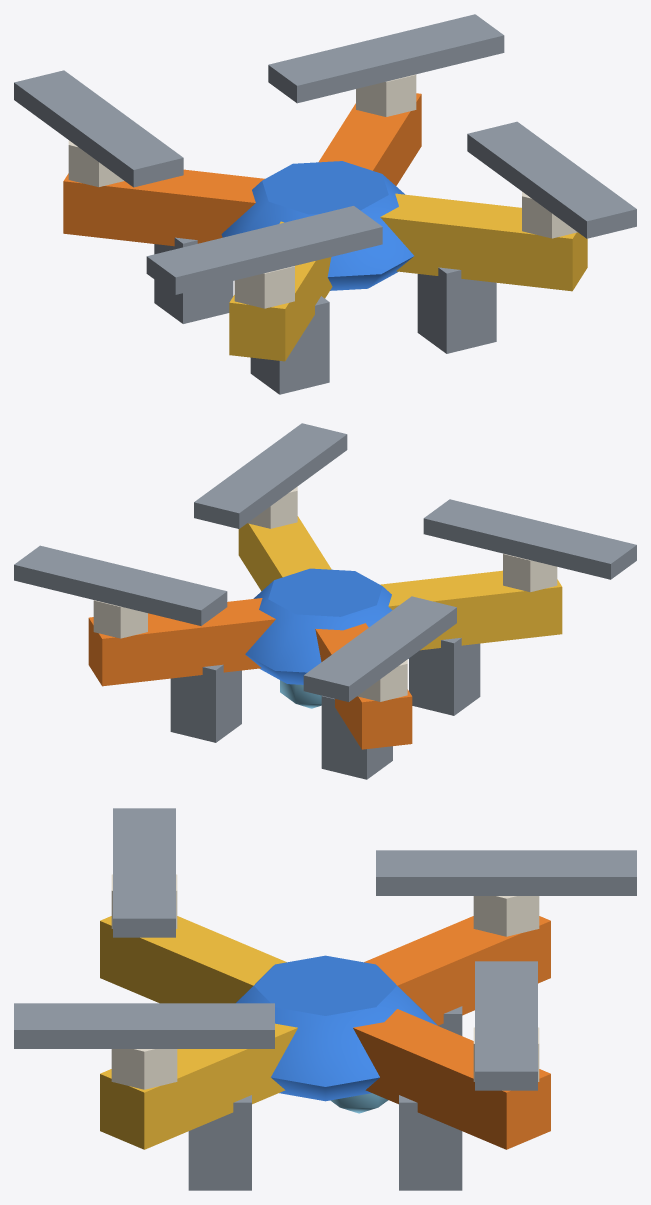
File: unit-drone.glb
3 renders of one model, top to bottom at view 1: azimuth 30°, elevation 25°; view 2: azimuth 150°, elevation 25°; view 3: azimuth 270°, elevation 25°, orthographic. The views are drawn at different scales.
Parts seen in each view (by area): view 1: frame, propeller (×4), feet; view 2: propeller (×4), frame, feet; view 3: frame, propeller (×4), feet.
Boxes of the visible parts, x1,y1,x2,y2 form: frame: (63,93,587,361); propeller (×4): (14,14,636,308); feet: (154,237,496,394); propeller (×4): (14,423,636,701); frame: (88,516,562,749); feet: (170,637,480,779); frame: (100,916,550,1149); propeller (×4): (14,808,636,1090); feet: (188,1006,462,1190).
Size of the model in its own units: 2.96 by 1.01 by 2.96.
